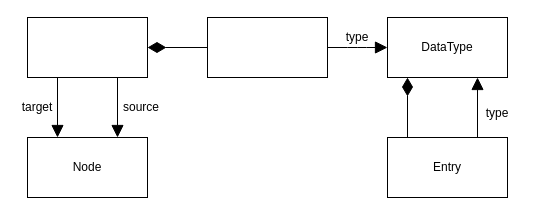
This 534x215 diagram has some shape labels left out. The shapes that lost their labels are listed below. From the top down, each one's box as (x1, y1, x2, y2) in pixels, then its label:
(26, 16, 148, 78): DataFlow
(206, 16, 328, 78): Data
